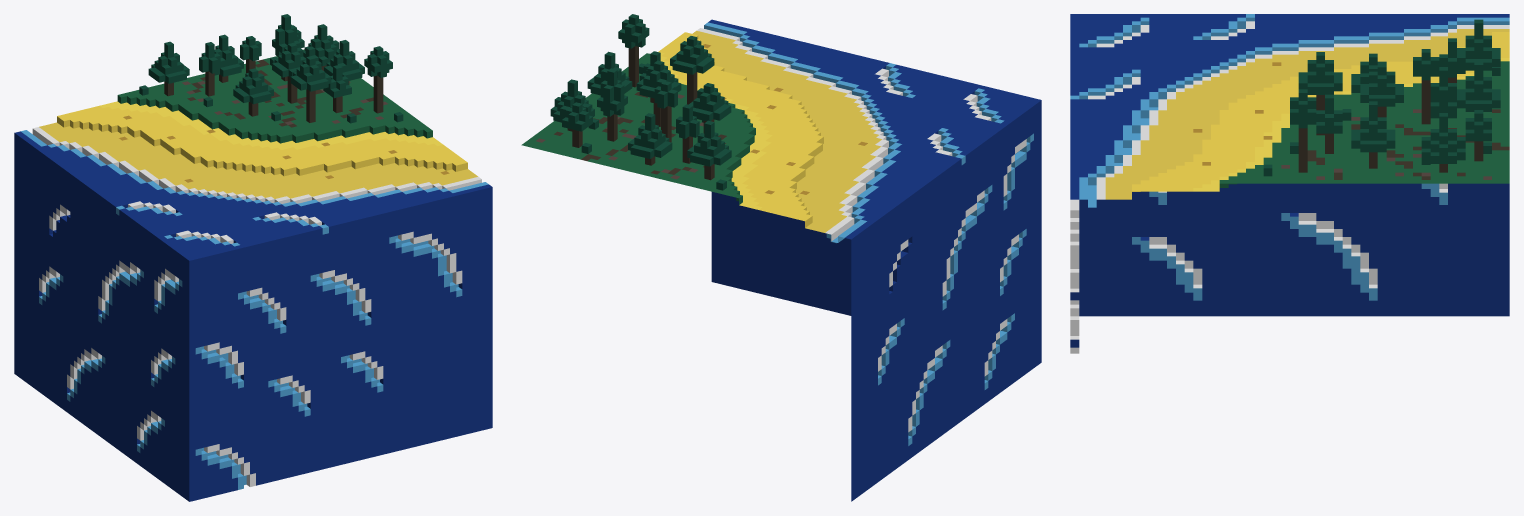
The model's file is 2sidesCO.obj.
The picture shows the model from 3 angles, left to right: view 1: azimuth 30°, elevation 25°; view 2: azimuth 150°, elevation 25°; view 3: azimuth 270°, elevation 25°; orthographic projection. The views are drawn at different scales.
Parts seen in each view (by area): view 1: Untitled.009; view 2: Untitled.009; view 3: Untitled.009.
Part boxes in pixels (x1,y1,x2,y2): Untitled.009: [14, 14, 492, 501]; Untitled.009: [521, 14, 1041, 501]; Untitled.009: [1070, 14, 1509, 353].
Bounding box in the file's own units: 5 × 5 × 5.
1 material, 1 textured.
